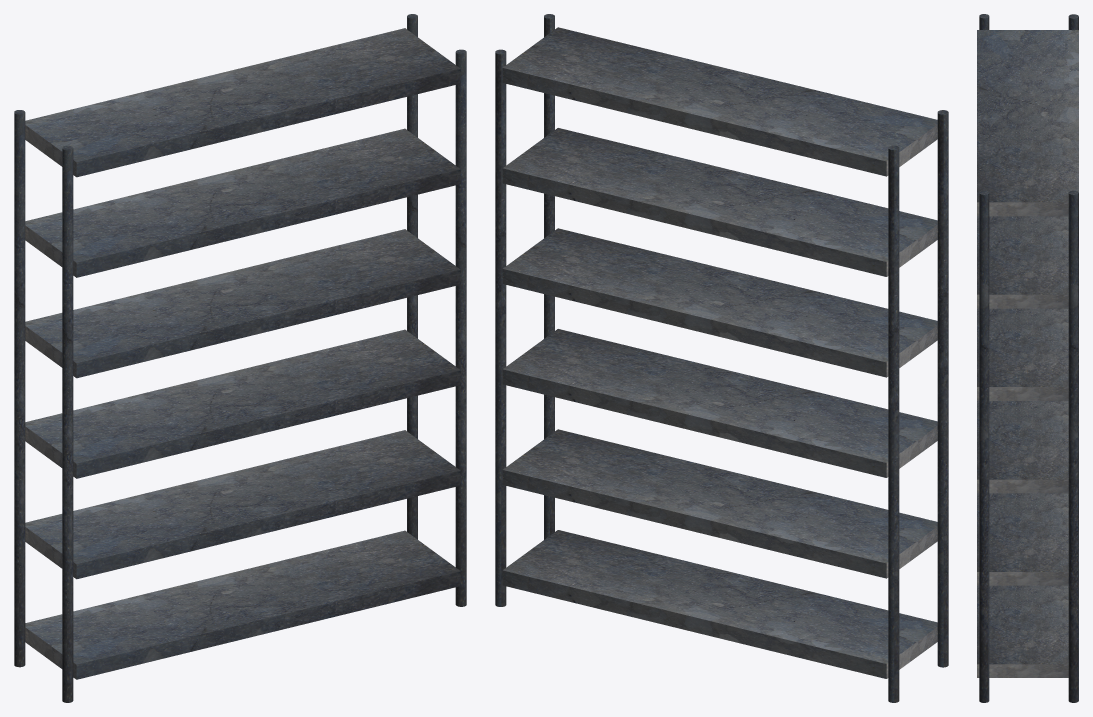
File: Steel_shelfs.fbx
3 views of the same model, side by side, from view 1: azimuth 30°, elevation 25°; view 2: azimuth 150°, elevation 25°; view 3: azimuth 270°, elevation 25° (orthographic). The views are drawn at different scales.
Visible parts, largest first — view 1: pCube6, pCube1, pCube3, pCube4, pCube5, pCube2, pCylinder3, pCylinder4, pCylinder2, pCylinder1; view 2: pCube6, pCube1, pCube2, pCube3, pCube4, pCube5, pCylinder3, pCylinder4, pCylinder1, pCylinder2; view 3: pCube6, pCube2, pCube5, pCube1, pCube3, pCube4, pCylinder2, pCylinder1.
Boxes of the visible parts, x1,y1,x2,y2 form: pCube6: (25, 28, 460, 177); pCube1: (25, 530, 460, 679); pCube3: (25, 329, 460, 478); pCube4: (25, 229, 460, 378); pCube5: (25, 128, 460, 277); pCube2: (25, 430, 460, 579); pCylinder3: (62, 145, 73, 702); pCylinder4: (14, 110, 25, 667); pCylinder2: (455, 49, 466, 606); pCylinder1: (407, 14, 417, 539); pCube6: (502, 27, 937, 176); pCube1: (502, 530, 937, 678); pCube2: (502, 429, 937, 578); pCube3: (502, 329, 937, 477); pCube4: (502, 228, 937, 377); pCube5: (502, 128, 937, 276); pCylinder3: (937, 110, 948, 667); pCylinder4: (888, 145, 899, 702); pCylinder1: (495, 49, 506, 606); pCylinder2: (544, 14, 554, 539); pCube6: (977, 30, 1078, 216); pCube2: (977, 493, 1068, 585); pCube5: (977, 216, 1068, 308); pCube1: (977, 585, 1068, 677); pCube3: (977, 401, 1068, 493); pCube4: (977, 308, 1068, 400); pCylinder2: (979, 190, 989, 702); pCylinder1: (1068, 190, 1078, 702).
Size of the model in its own units: 8.4 by 11 by 2.
1 material, 1 textured.
